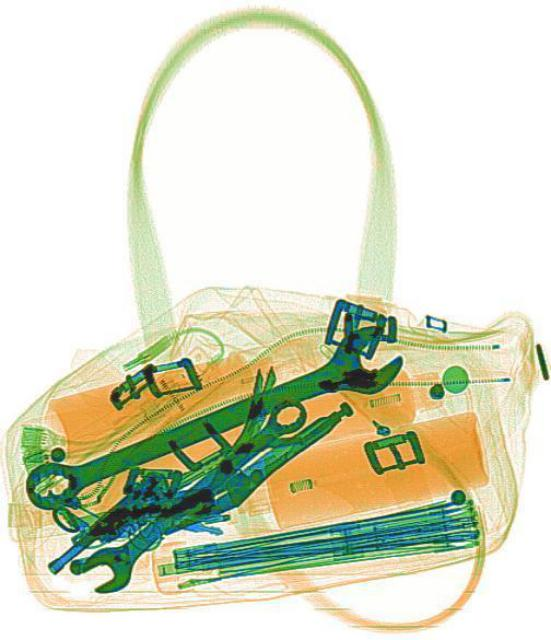Gun: (36, 440, 221, 612)
Wrench: (14, 314, 409, 524), (74, 383, 315, 601)
